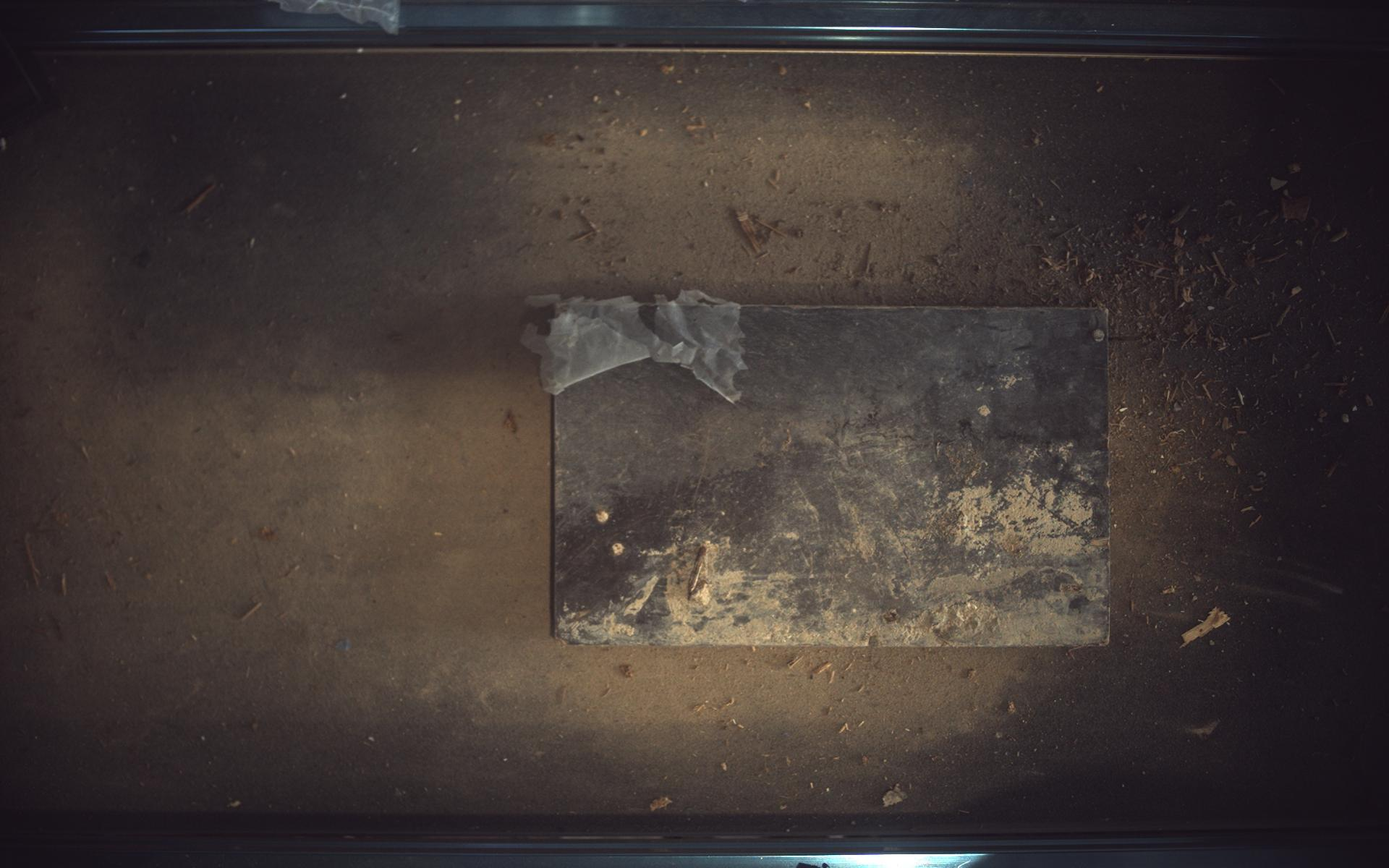wood: (523, 292, 1111, 647)
